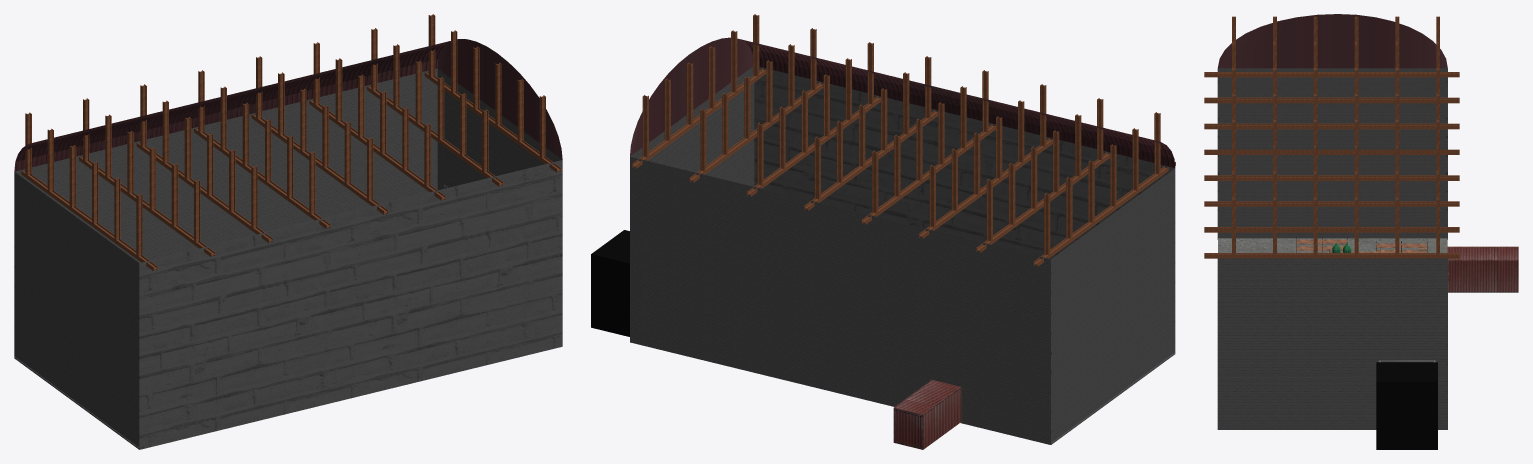
File: first_room.gltf
The picture shows the model from 3 angles, left to right: view 1: azimuth 30°, elevation 25°; view 2: azimuth 150°, elevation 25°; view 3: azimuth 270°, elevation 25°; orthographic projection. The views are drawn at different scales.
Visible parts, largest first — view 1: Plane.002, Plane.003, Plane.004, Plane.005, Plane.001, Plane.006, Plane.007, Cube.001, Cube.003, Cube.009, Cube.006, Cube.004 (+3 smaller); view 2: Plane.003, Plane.002, Plane.004, Plane.006, Plane.005, Plane.001, Plane.007, Cube, left_side, celing, Cube.001, back (+7 smaller); view 3: Plane.001, Plane.004, Plane.005, Cube, right_side, Warehouse, Cube.004, Cube.005, Cube.006, Cube.007, Cube.008, Cube.009 (+3 smaller).
Part boxes in pixels (x1,y1,x2,y2): Plane.002: (139, 160, 562, 449); Plane.003: (133, 68, 437, 262); Plane.004: (14, 172, 139, 449); Plane.005: (14, 39, 562, 171); Plane.001: (437, 69, 561, 190); Plane.006: (15, 150, 103, 236); Plane.007: (104, 144, 133, 258); Cube.001: (21, 170, 157, 271); Cube.003: (194, 127, 330, 229); Cube.009: (367, 85, 503, 186); Cube.006: (424, 71, 561, 172); Cube.004: (79, 156, 215, 257); Plane.003: (630, 156, 932, 406); Plane.002: (754, 67, 1174, 259); Plane.004: (1051, 168, 1175, 444); Plane.006: (960, 237, 1050, 444); Plane.005: (630, 37, 1175, 167); Plane.001: (630, 67, 754, 186); Plane.007: (931, 230, 961, 386); Cube: (591, 230, 629, 336); left_side: (922, 387, 961, 449); celing: (894, 380, 959, 415); Cube.001: (1033, 162, 1175, 266); back: (894, 407, 922, 449); Plane.001: (1217, 258, 1447, 429); Plane.004: (1217, 68, 1447, 239); Plane.005: (1218, 14, 1447, 68); Cube: (1376, 362, 1437, 449); right_side: (1448, 259, 1518, 292); Warehouse: (1218, 238, 1447, 252); Cube.004: (1204, 97, 1459, 103); Cube.005: (1204, 123, 1459, 129); Cube.006: (1204, 253, 1459, 258); Cube.007: (1204, 175, 1459, 180); Cube.008: (1204, 201, 1459, 206); Cube.009: (1204, 227, 1459, 232).
Size of the model in its own units: 48.73 by 24.51 by 30.82.
Materials: 89 (88 with a texture image).
